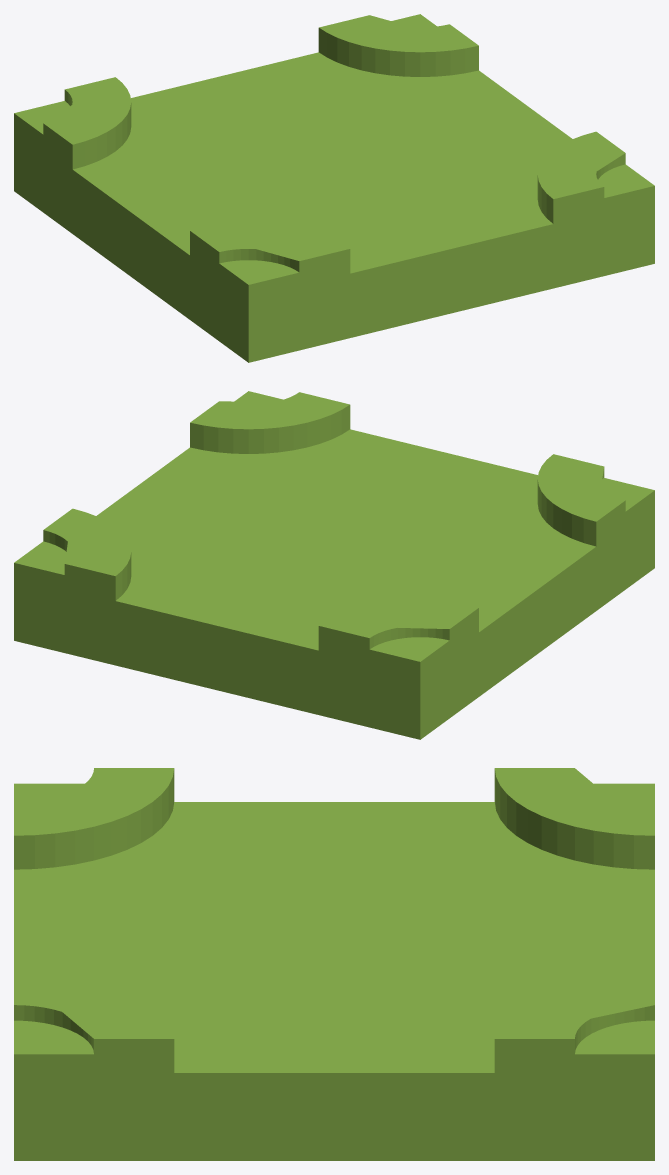
The model's file is roadtile_251.glb.
3 renders of one model, top to bottom at view 1: azimuth 30°, elevation 25°; view 2: azimuth 150°, elevation 25°; view 3: azimuth 270°, elevation 25°, orthographic. The views are drawn at different scales.
Parts seen in each view (by area): view 1: Mesh1 Group1 Model; view 2: Mesh1 Group1 Model; view 3: Mesh1 Group1 Model.
Part boxes in pixels (x1=…): Mesh1 Group1 Model: x1=14, y1=14, x2=654, y2=362; Mesh1 Group1 Model: x1=14, y1=391, x2=654, y2=739; Mesh1 Group1 Model: x1=14, y1=768, x2=654, y2=1160.
Bounding box in the file's own units: 3 × 0.63 × 3.
